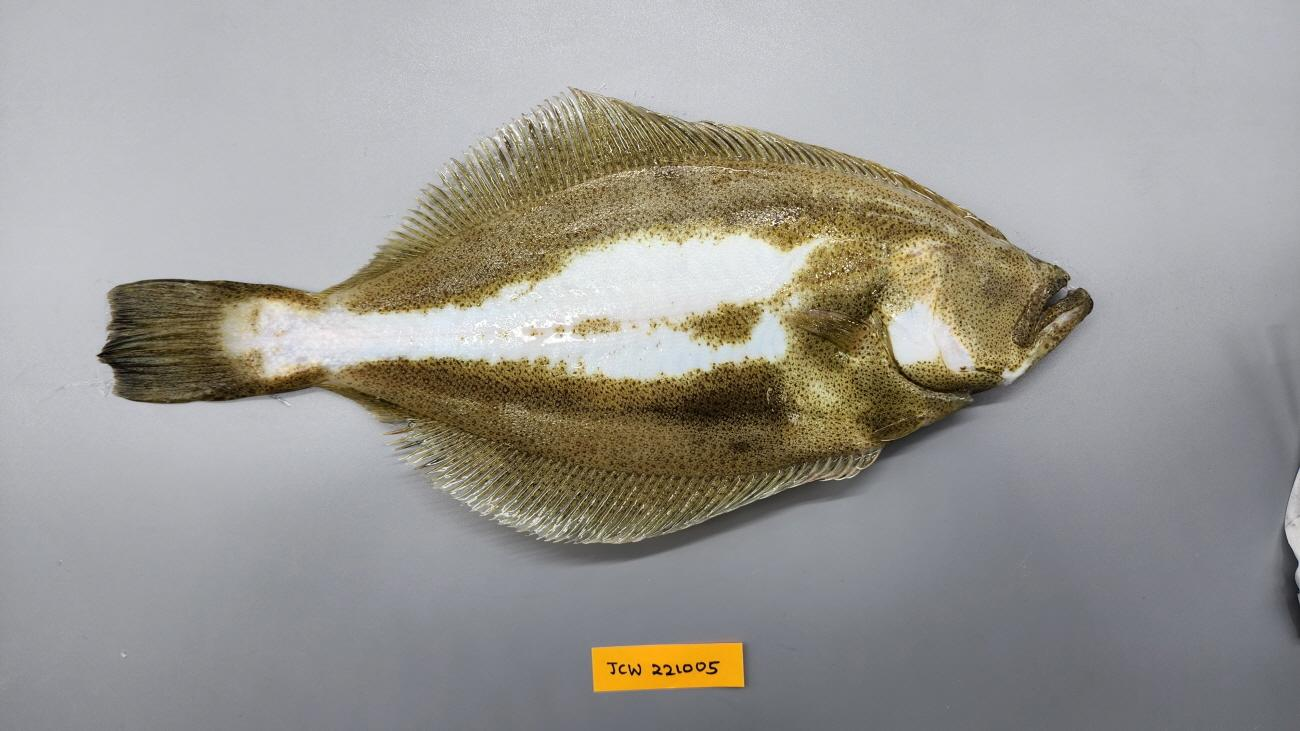POOUN: (97, 88, 1098, 546)
